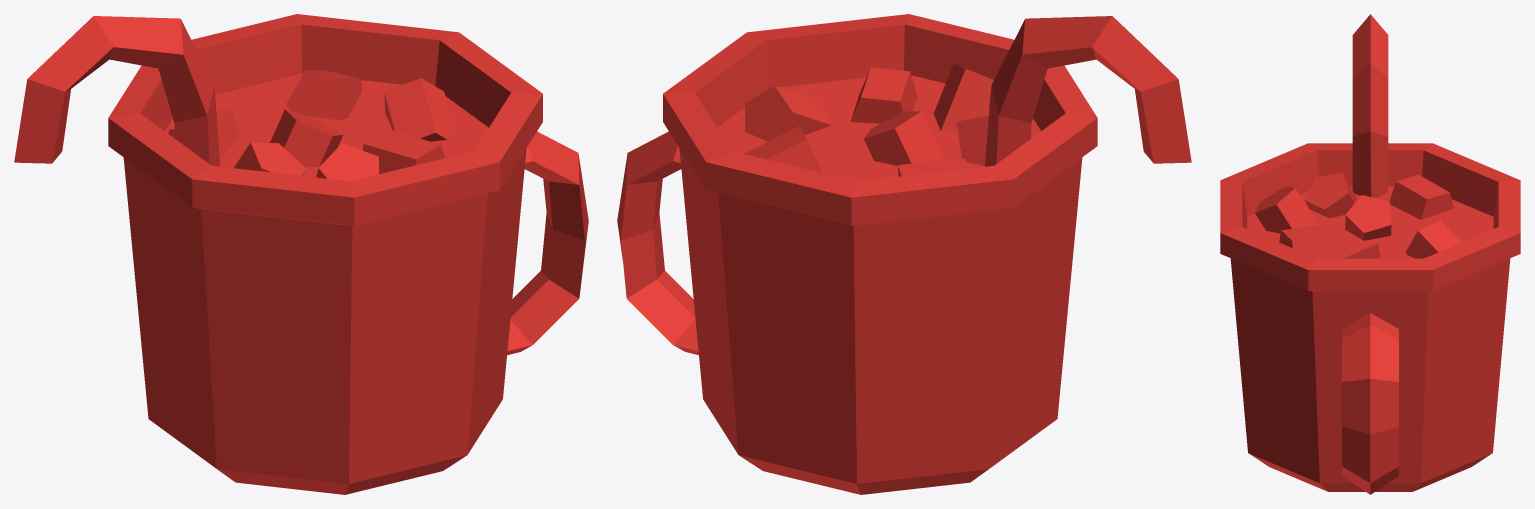
The model's file is SM_Hot_Chocolate.fbx.
3 views of the same model, side by side, from view 1: azimuth 30°, elevation 25°; view 2: azimuth 150°, elevation 25°; view 3: azimuth 270°, elevation 25° (orthographic). The views are drawn at different scales.
Visible parts, largest first — view 1: hot-chocolate; view 2: hot-chocolate; view 3: hot-chocolate.
Boxes of the visible parts, x1=… form: hot-chocolate: x1=14, y1=14, x2=588, y2=494; hot-chocolate: x1=617, y1=14, x2=1191, y2=494; hot-chocolate: x1=1220, y1=14, x2=1520, y2=494.
Bounding box in the file's own units: 0.1644 × 0.1295 × 0.1003.
